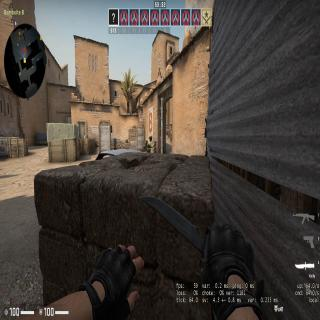CT-Body: (144, 134, 155, 152)
CT-Head: (149, 134, 152, 140)
